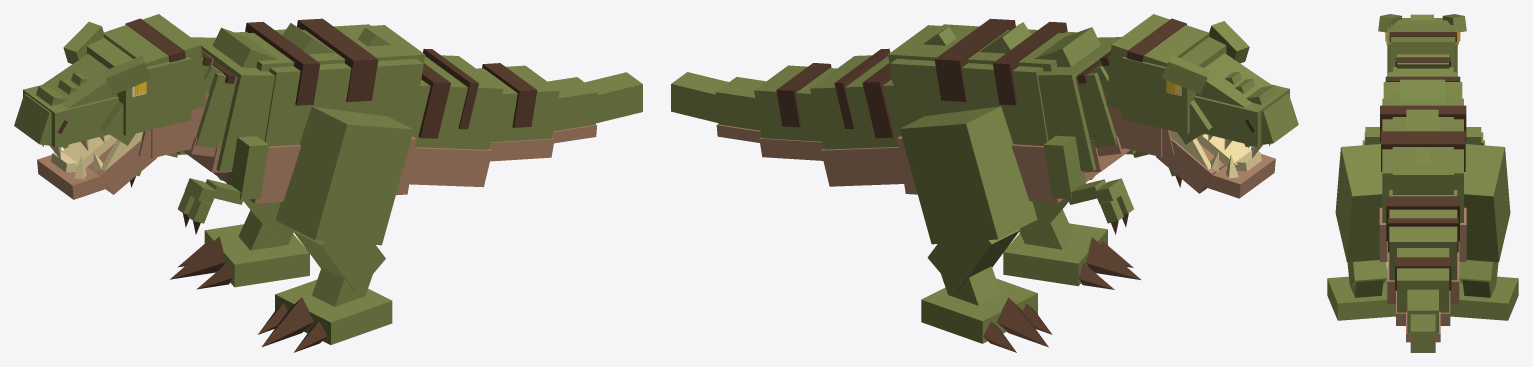
File: lod_tyrannosaurus.obj
3 renders of one model, left to right at view 1: azimuth 30°, elevation 25°; view 2: azimuth 150°, elevation 25°; view 3: azimuth 270°, elevation 25°, orthographic. The views are drawn at different scales.
Parts seen in each view (by area): view 1: lod_tyrannosaurus; view 2: lod_tyrannosaurus; view 3: lod_tyrannosaurus.
Boxes of the visible parts, x1=… form: lod_tyrannosaurus: x1=14, y1=14, x2=642, y2=352; lod_tyrannosaurus: x1=671, y1=14, x2=1298, y2=352; lod_tyrannosaurus: x1=1327, y1=14, x2=1518, y2=352.
Bounding box in the file's own units: 25.81 × 12.09 × 9.26.
